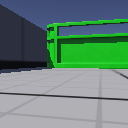green_basket: (47, 18, 126, 69)
